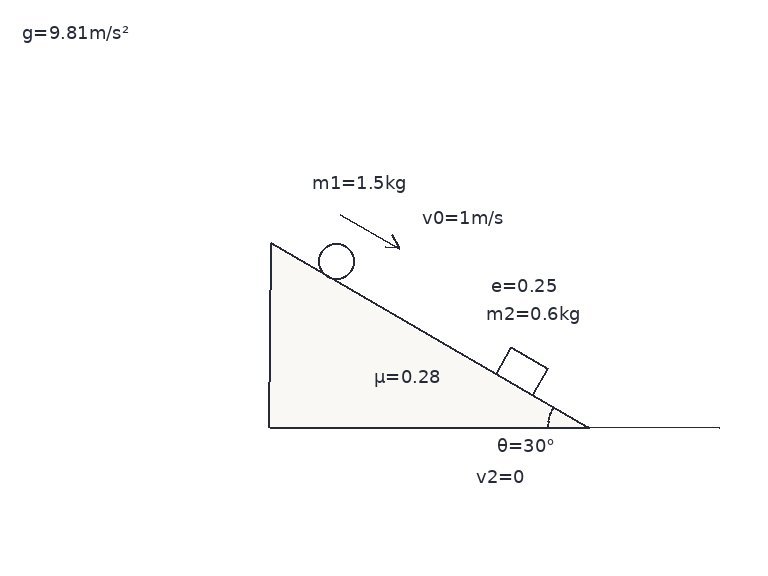ball: (316, 241, 356, 281)
block: (494, 345, 549, 397)
ramp: (268, 241, 590, 429)
